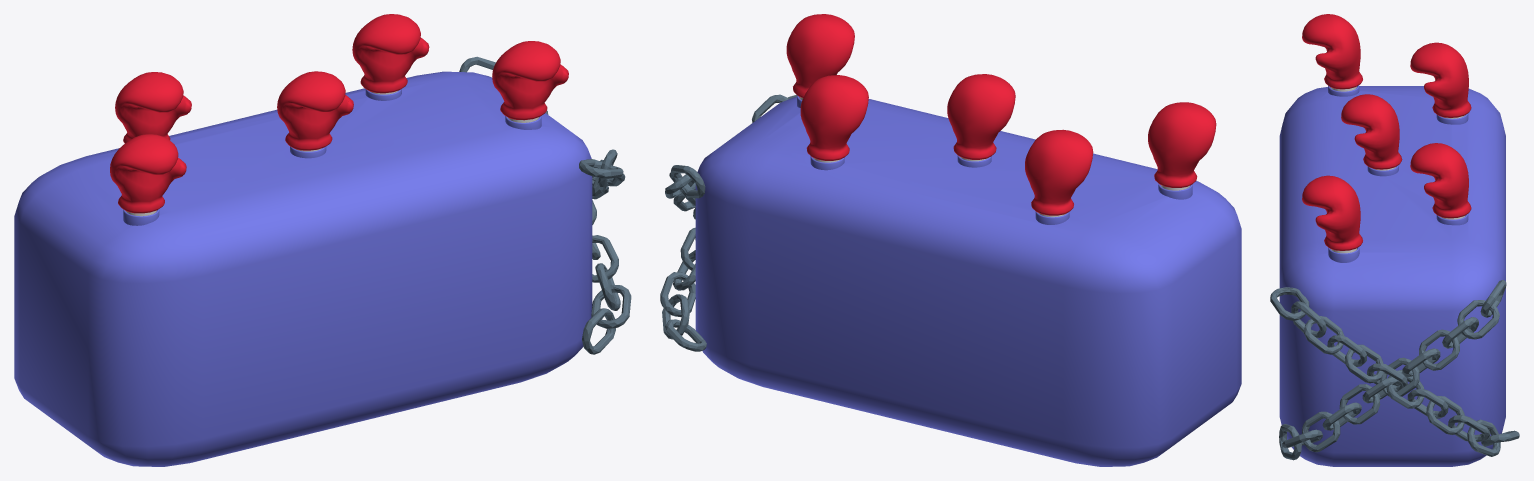
File: Punch machine 2.fbx
3 renders of one model, left to right at view 1: azimuth 30°, elevation 25°; view 2: azimuth 150°, elevation 25°; view 3: azimuth 270°, elevation 25°, orthographic. The views are drawn at different scales.
Visible parts, largest first — view 1: Box, Punch 2, Punch 3, Punch 5, Punch 1, Punch 4, Torus.015, Torus.014; view 2: Box, Punch 3, Punch 5, Punch 1, Punch 4, Punch 2, Torus.005, Torus.002, Torus.013, Torus.003; view 3: Box, Punch 2, Punch 3, Punch 5, Punch 1, Punch 4, Torus.024, Torus.017, Torus.019, Torus.023, Torus.001, Torus.010 (+18 smaller).
Part boxes in pixels (bbox=[...]): Box: bbox=[14, 71, 592, 466]; Punch 2: bbox=[492, 41, 568, 122]; Punch 3: bbox=[110, 134, 186, 216]; Punch 5: bbox=[352, 14, 429, 94]; Punch 1: bbox=[277, 71, 353, 151]; Punch 4: bbox=[115, 72, 191, 143]; Torus.015: bbox=[582, 308, 615, 354]; Torus.014: bbox=[591, 285, 631, 328]; Box: bbox=[695, 95, 1241, 466]; Punch 3: bbox=[1148, 102, 1216, 190]; Punch 5: bbox=[800, 75, 868, 162]; Punch 1: bbox=[947, 74, 1015, 161]; Punch 4: bbox=[1025, 129, 1093, 217]; Punch 2: bbox=[786, 14, 854, 99]; Torus.005: bbox=[660, 272, 695, 316]; Torus.002: bbox=[665, 319, 706, 351]; Torus.013: bbox=[670, 165, 705, 198]; Torus.003: bbox=[662, 294, 689, 339]; Box: bbox=[1279, 85, 1505, 466]; Punch 2: bbox=[1302, 175, 1362, 253]; Punch 3: bbox=[1302, 14, 1362, 91]; Punch 5: bbox=[1410, 143, 1471, 219]; Punch 1: bbox=[1341, 94, 1402, 170]; Punch 4: bbox=[1410, 42, 1471, 118]; Torus.024: bbox=[1457, 300, 1499, 339]; Torus.017: bbox=[1302, 411, 1340, 452]; Torus.019: bbox=[1339, 384, 1380, 424]; Torus.023: bbox=[1419, 329, 1459, 370]; Torus.001: bbox=[1270, 287, 1309, 320]; Torus.010: bbox=[1304, 316, 1344, 354].
Bounding box in the file's own units: 21.46 × 12.63 × 10.07.
